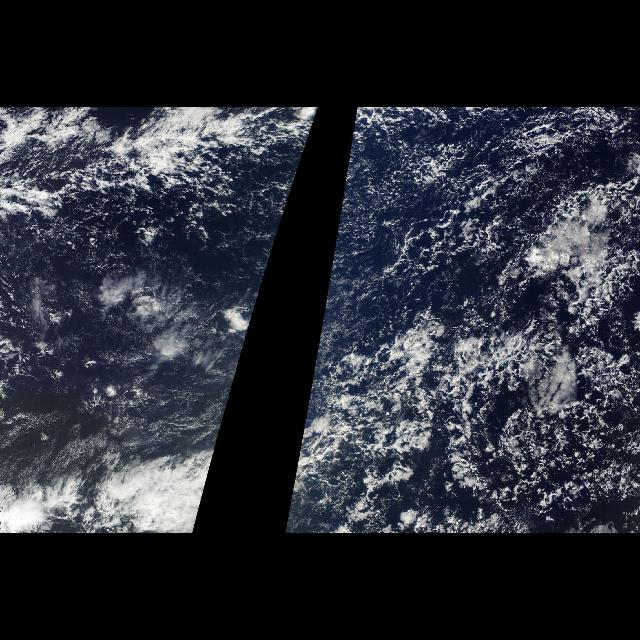Fish: (1, 107, 322, 263)
Gravel: (312, 112, 640, 532)
